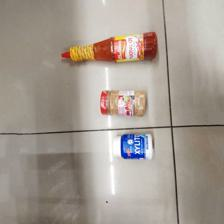Hao_hao: (100, 90, 147, 118)
Tuong: (59, 32, 160, 64)
Xylitol_blue: (113, 131, 153, 162)
